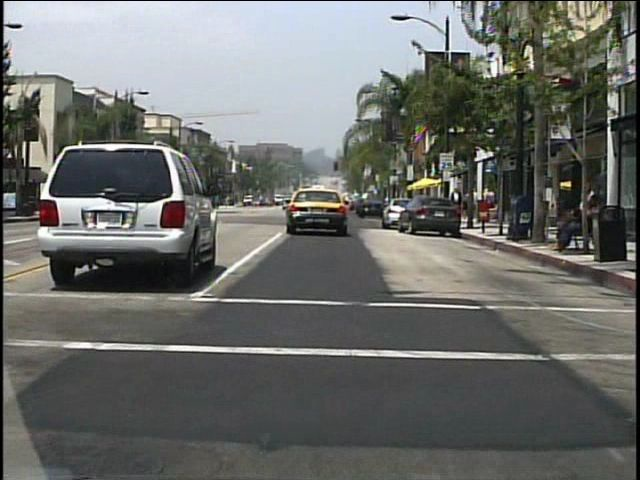person: (550, 201, 591, 258), (577, 176, 593, 237), (470, 181, 484, 219), (450, 183, 463, 220), (481, 185, 493, 219)
